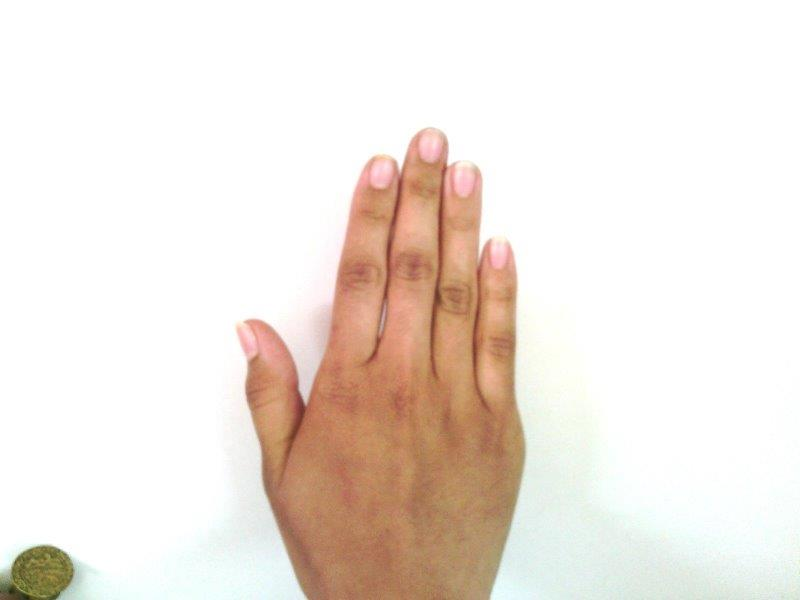hand: (235, 128, 526, 597)
